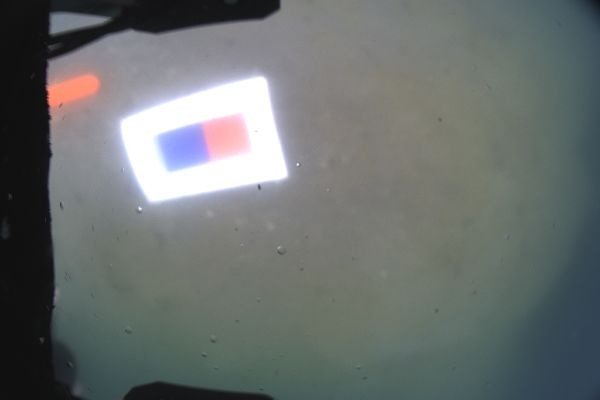bin_bleue: (120, 77, 288, 203)
bin_rouge: (157, 123, 208, 172)
gate: (201, 114, 249, 159)
path: (47, 74, 99, 106)
